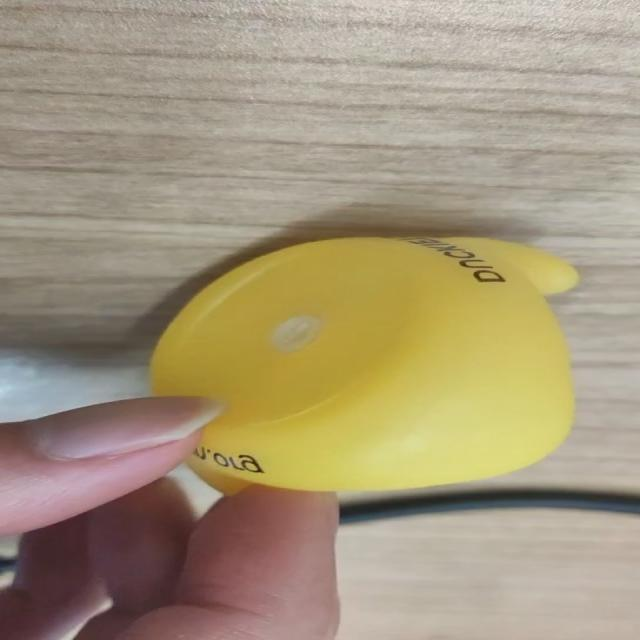rubber-duck: (150, 236, 577, 490)
